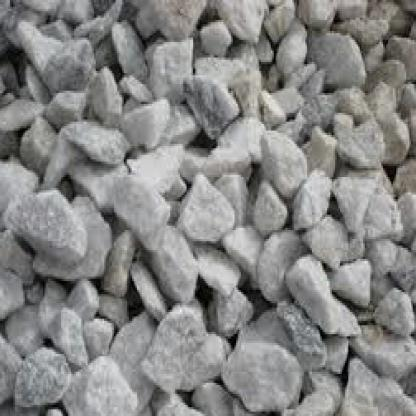Metamorphic_Marble: (3, 172, 89, 278), (150, 299, 230, 389), (102, 168, 188, 237), (63, 341, 142, 414), (223, 343, 304, 407), (281, 246, 343, 328), (187, 66, 241, 138), (180, 172, 239, 236), (258, 126, 310, 195), (121, 84, 174, 151), (18, 341, 71, 407), (290, 160, 336, 232)
